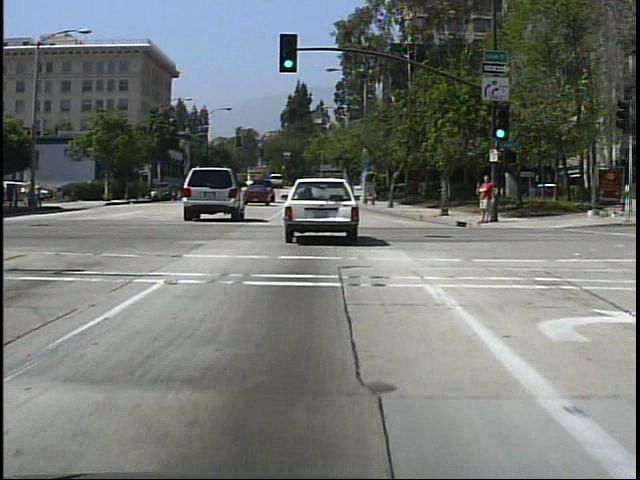person: (470, 171, 496, 226), (26, 179, 38, 212), (35, 181, 46, 208)
